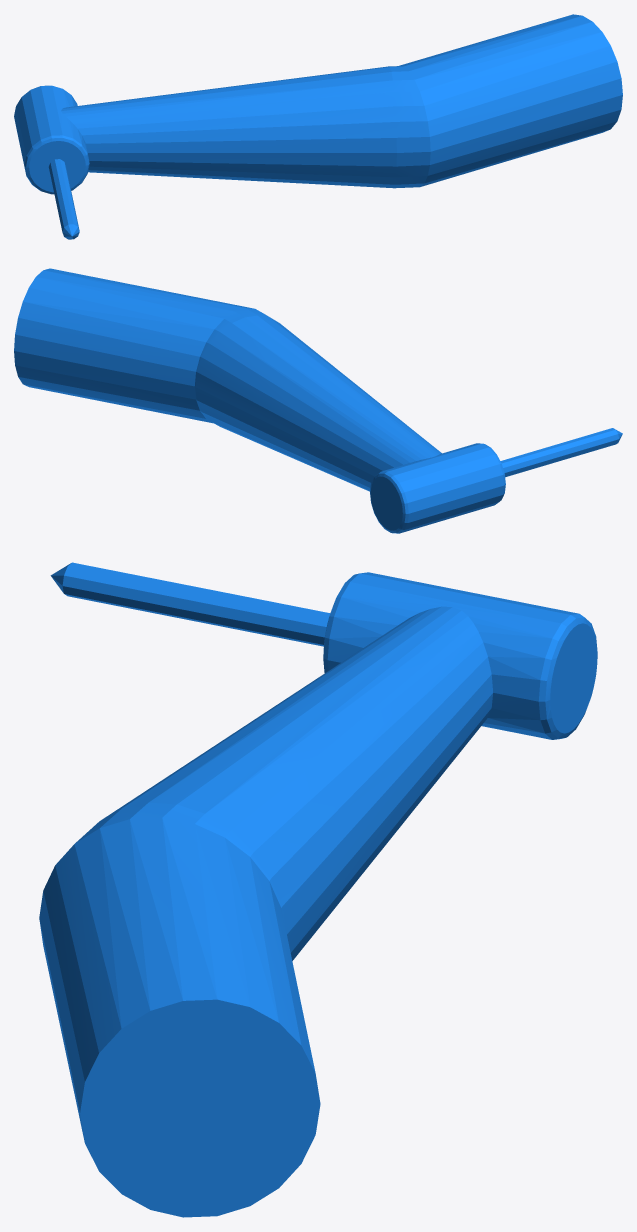
File: drill.obj
3 renders of one model, top to bottom at view 1: azimuth 30°, elevation 25°; view 2: azimuth 150°, elevation 25°; view 3: azimuth 270°, elevation 25°, orthographic. The views are drawn at different scales.
Visible parts, largest first — view 1: Visualizat; view 2: Visualizat; view 3: Visualizat.
Part boxes in pixels (x1,y1,x2,y2): Visualizat: (14, 14, 622, 239); Visualizat: (14, 268, 622, 533); Visualizat: (39, 562, 597, 1217).
Bounding box in the file's own units: 74.14 × 14 × 32.39.
